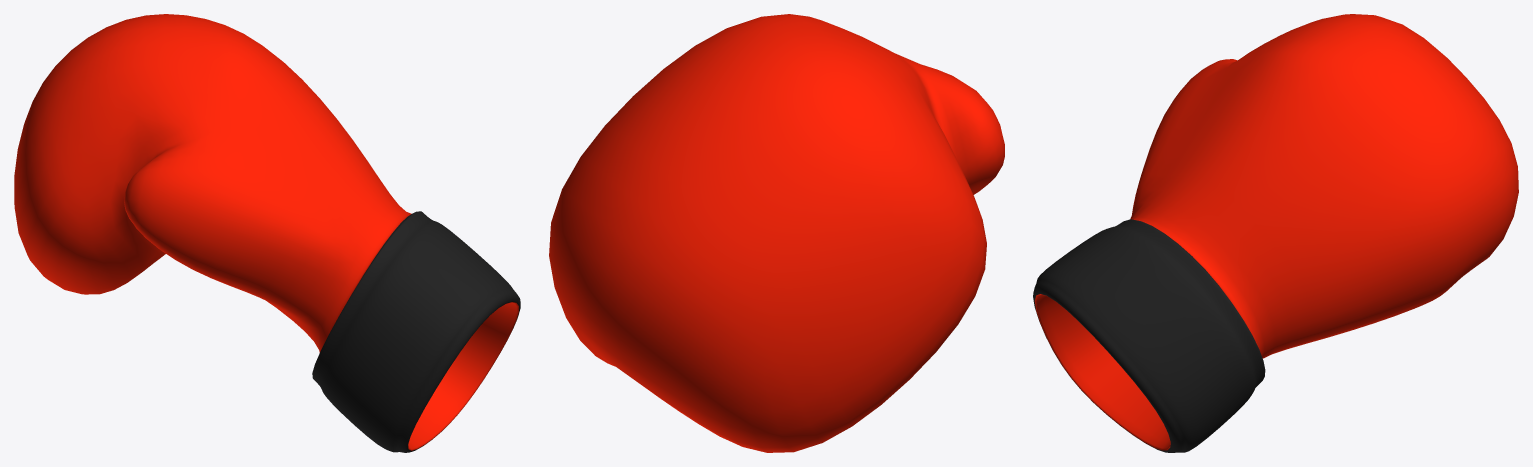
The model's file is Boxing_Hand_Right_Hit_Anim.fbx.
3 renders of one model, left to right at view 1: azimuth 30°, elevation 25°; view 2: azimuth 150°, elevation 25°; view 3: azimuth 270°, elevation 25°, orthographic. The views are drawn at different scales.
Visible parts, largest first — view 1: Boxing_Hand_Right; view 2: Boxing_Hand_Right; view 3: Boxing_Hand_Right.
Part boxes in pixels (bbox=[...]): Boxing_Hand_Right: bbox=[14, 14, 520, 452]; Boxing_Hand_Right: bbox=[549, 14, 1004, 452]; Boxing_Hand_Right: bbox=[1033, 14, 1518, 452].
Bounding box in the file's own units: 2.54 × 2.35 × 3.
